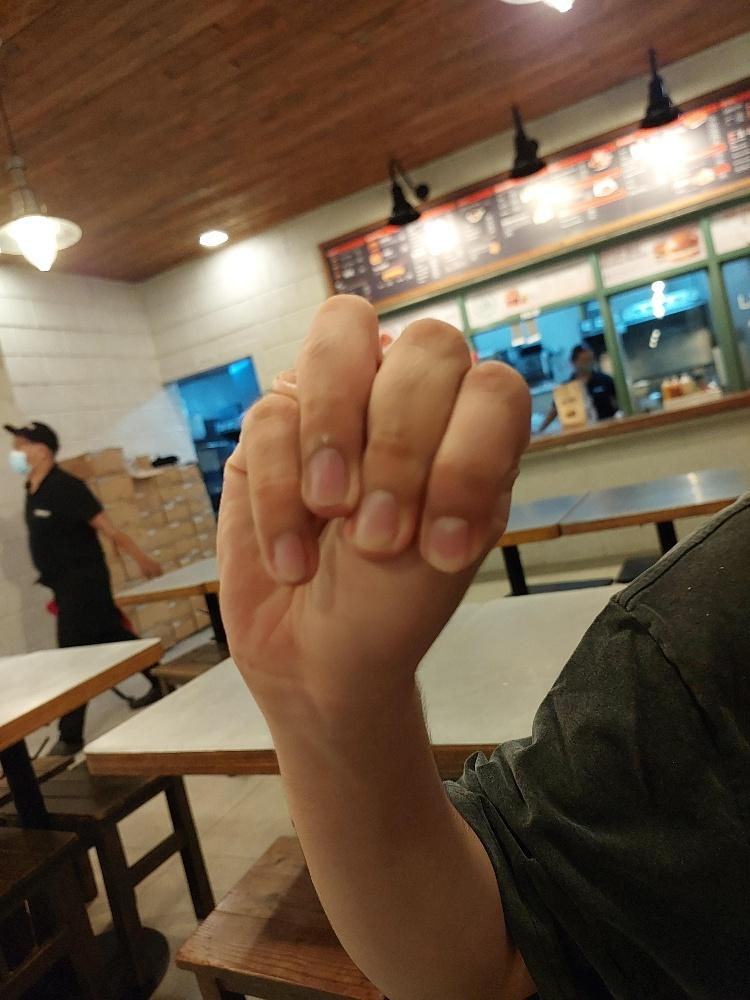m: (213, 290, 535, 695)
